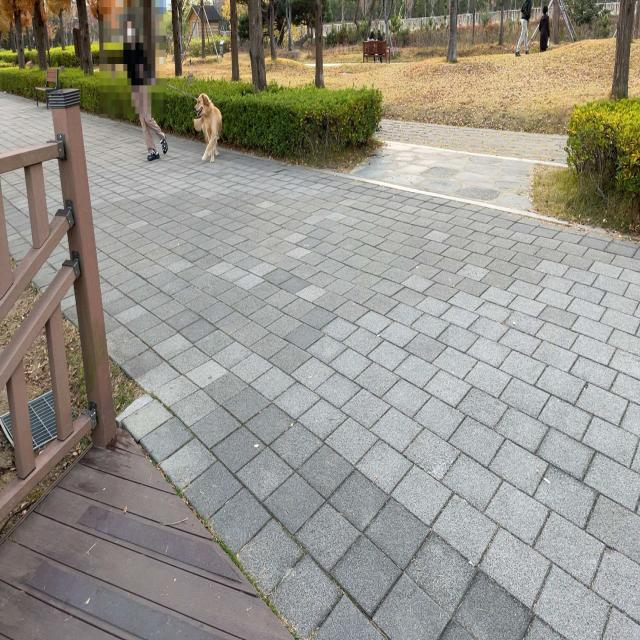Leashed_Dog: (138, 64, 223, 164)
